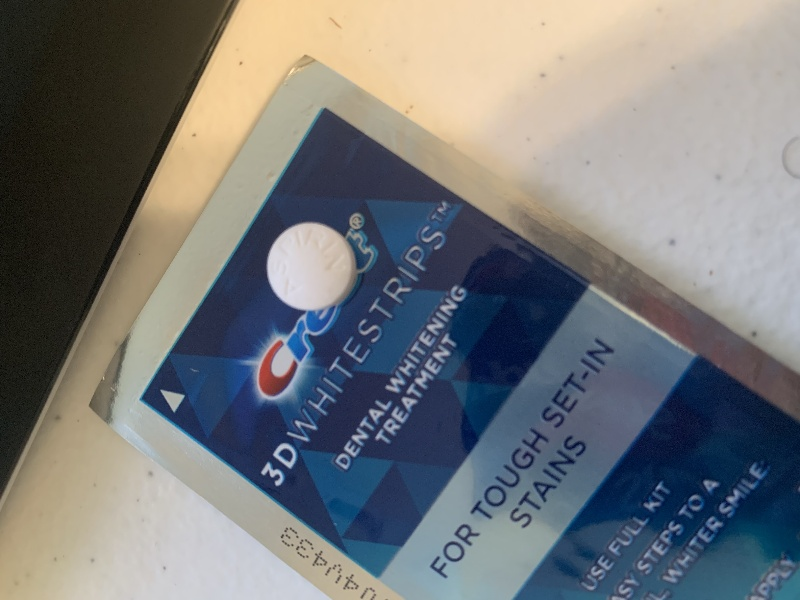Aspirin: (259, 217, 362, 315)
